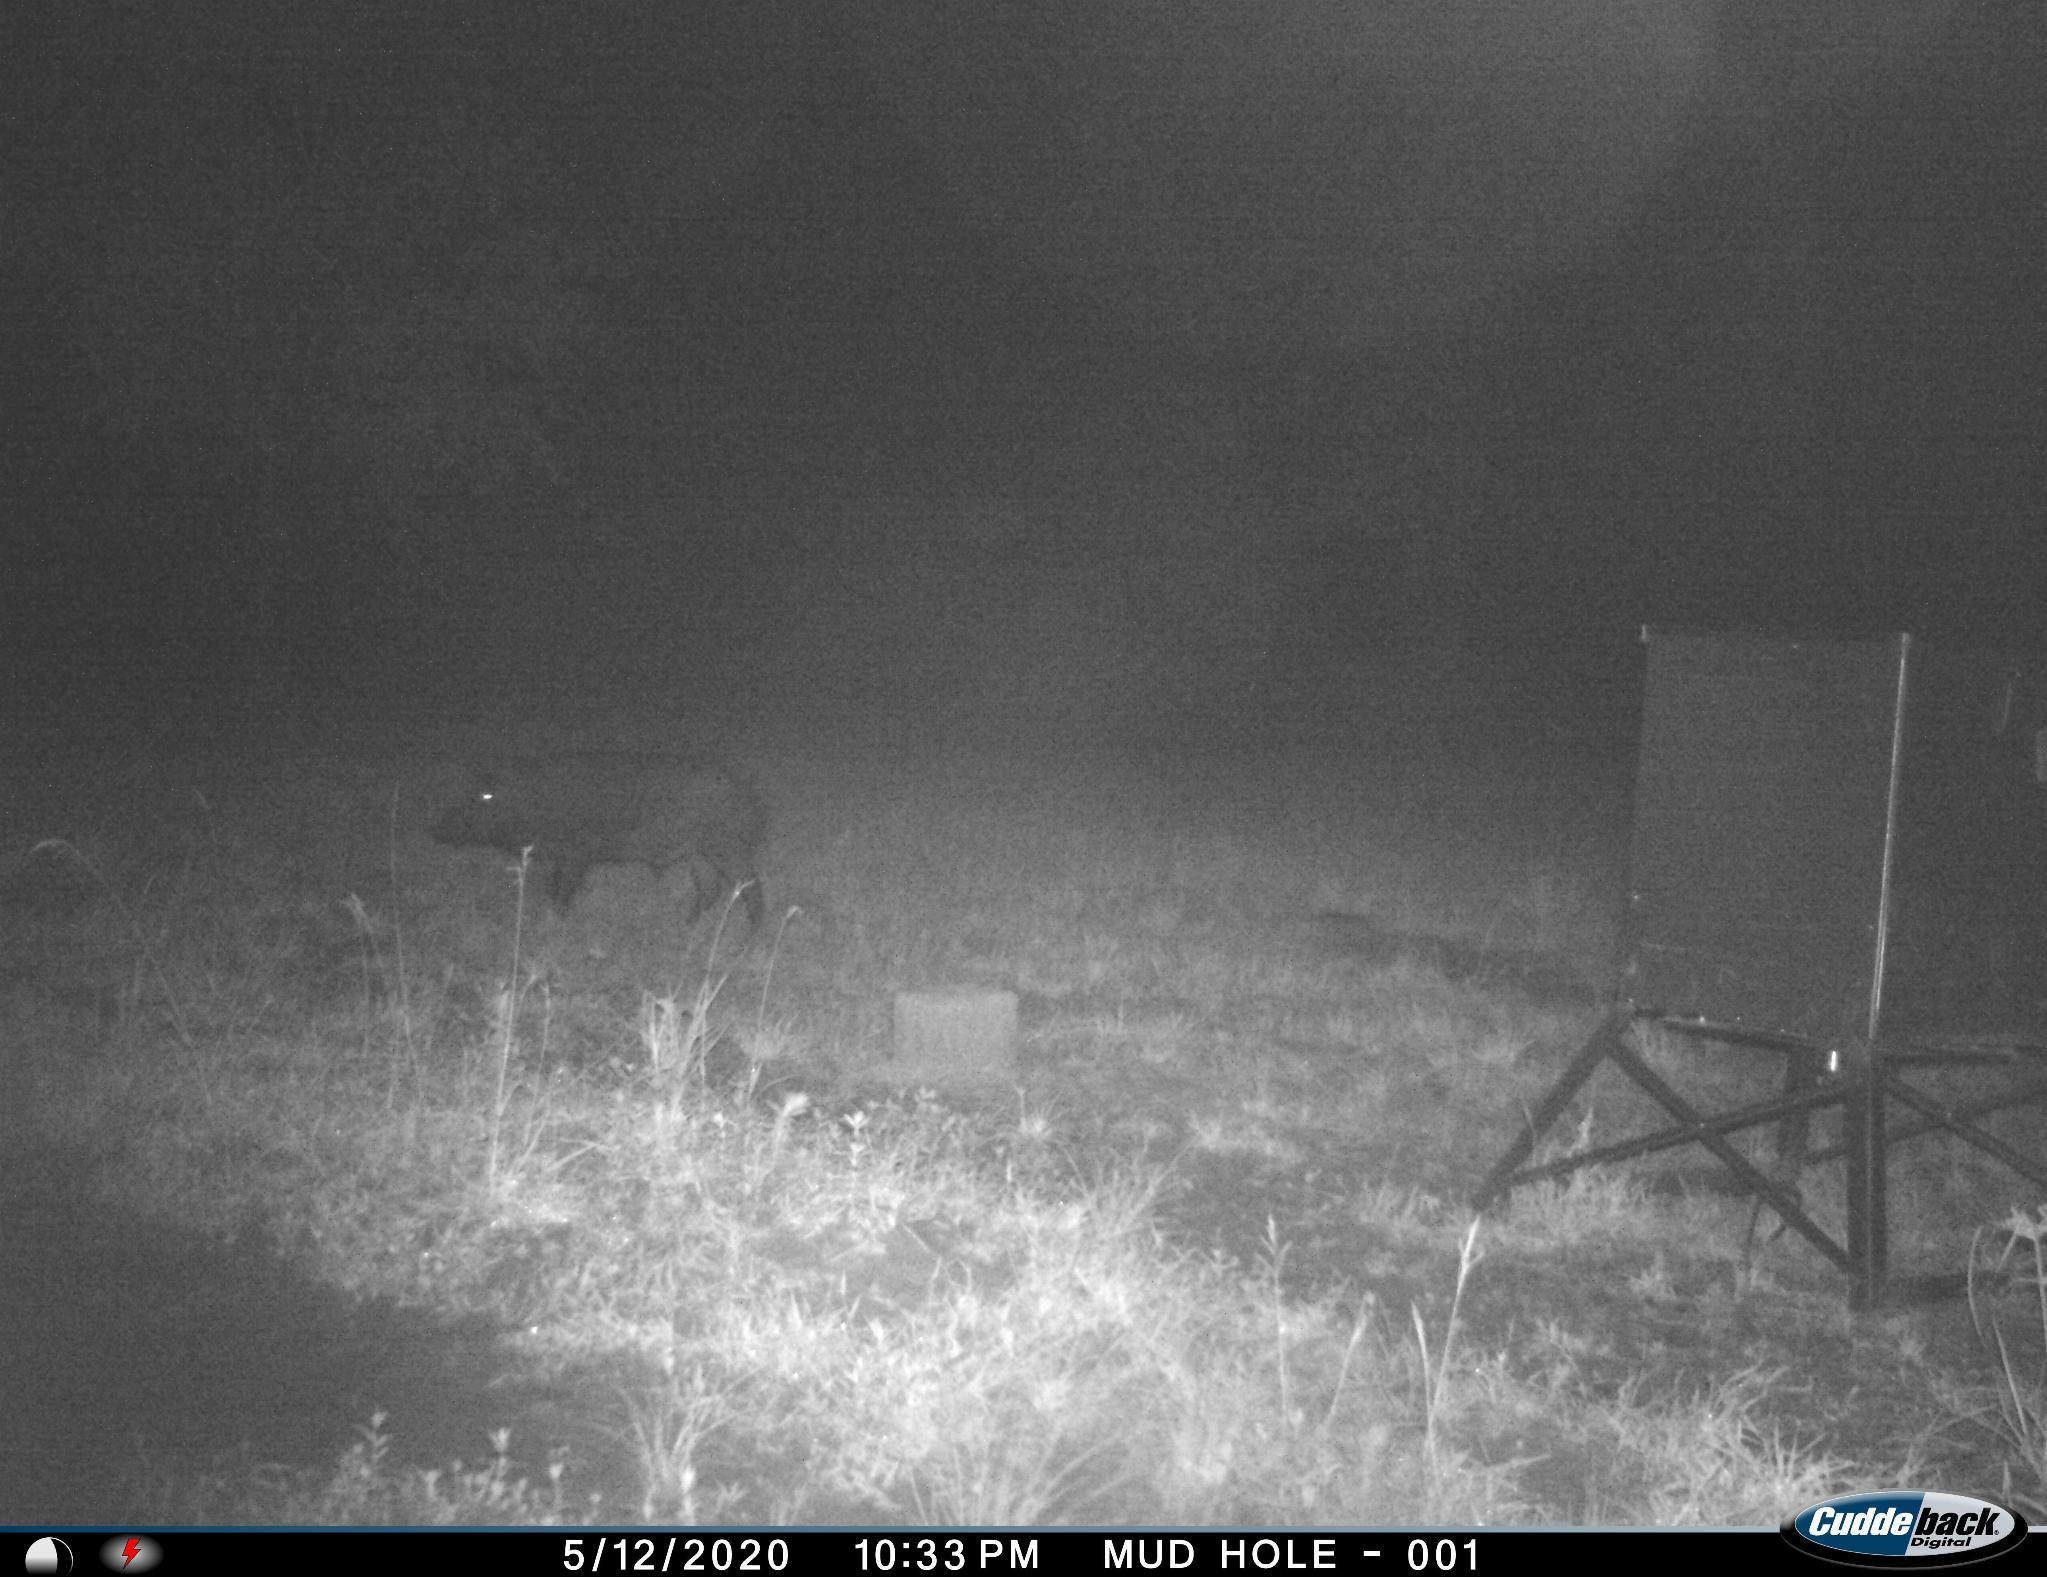Hog: (437, 734, 782, 946)
